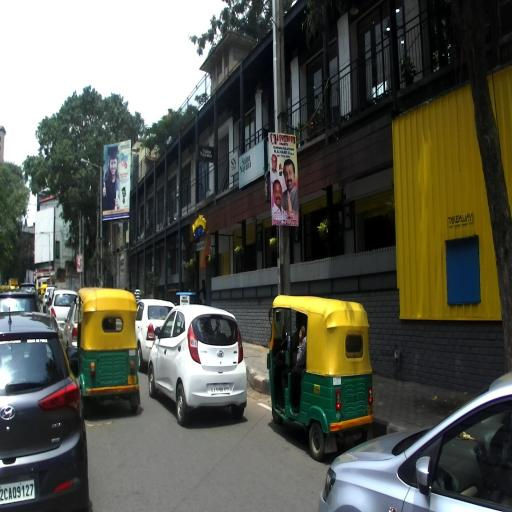street_light_0: (80, 158, 102, 171), (40, 232, 50, 236)
